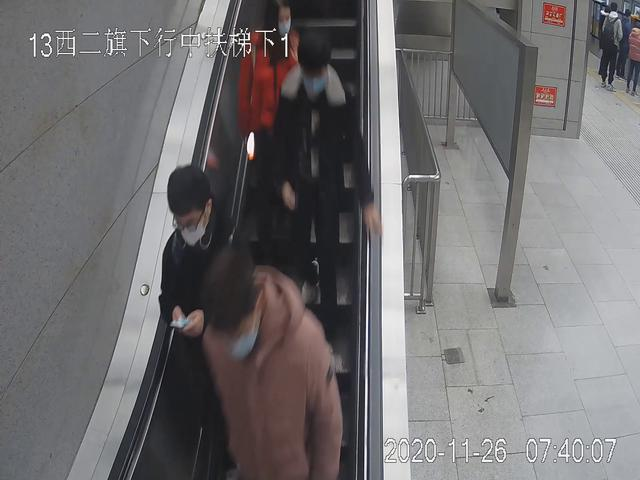person: (276, 32, 382, 366), (207, 256, 341, 480), (163, 165, 251, 480), (238, 5, 312, 217), (597, 5, 622, 92), (627, 23, 640, 93)
